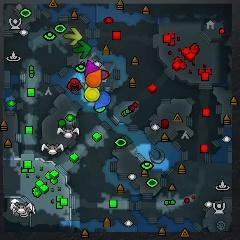p1: (94, 91, 110, 110)
p2: (84, 83, 100, 90)
p3: (85, 61, 98, 75)
p4: (85, 87, 100, 102)
p5: (85, 69, 102, 87)
x2: (64, 28, 82, 45)
x4: (74, 40, 91, 58)
